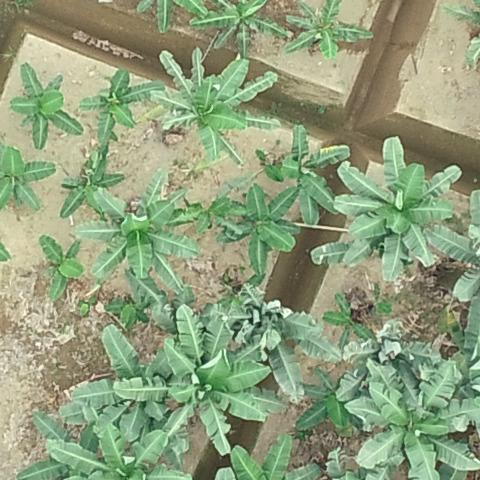Banana-plant: (115, 302, 274, 458), (329, 140, 464, 286), (70, 163, 204, 302), (349, 344, 480, 480), (209, 282, 348, 407), (143, 45, 283, 167), (65, 320, 166, 440), (254, 127, 353, 227), (29, 421, 193, 480), (202, 187, 296, 280), (74, 68, 167, 146), (5, 61, 84, 148), (289, 356, 371, 432), (187, 0, 287, 61), (280, 0, 375, 63), (53, 147, 125, 219), (319, 285, 379, 355), (37, 229, 86, 312), (0, 140, 58, 210)
